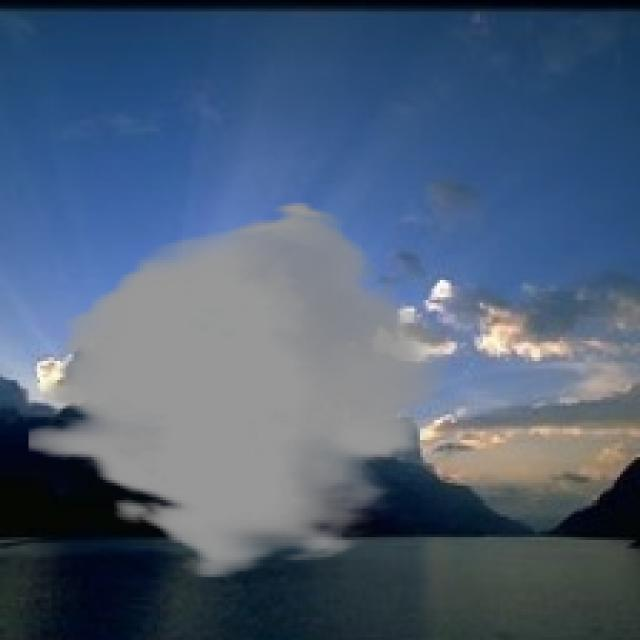smoke: (29, 200, 448, 580)
